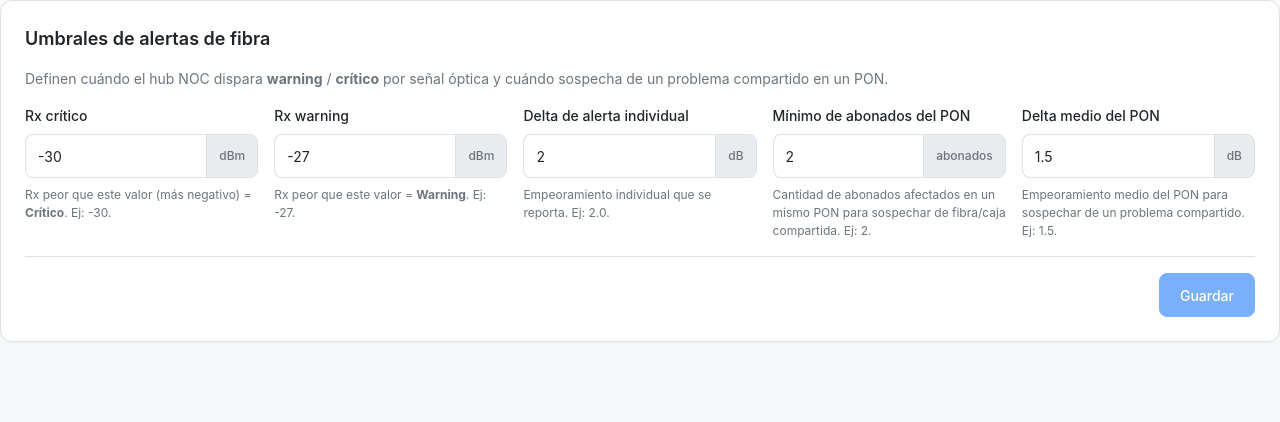
Test: NocAlertThresholdsEditor › rejects ponMinAbon that is not a non-negative integer
The width and height of the screenshot is (1280, 422).
Replace the text in the number field labelled "Mínimo de abonados del PON" with "2.5" at (848, 156), box [773, 134, 923, 178]
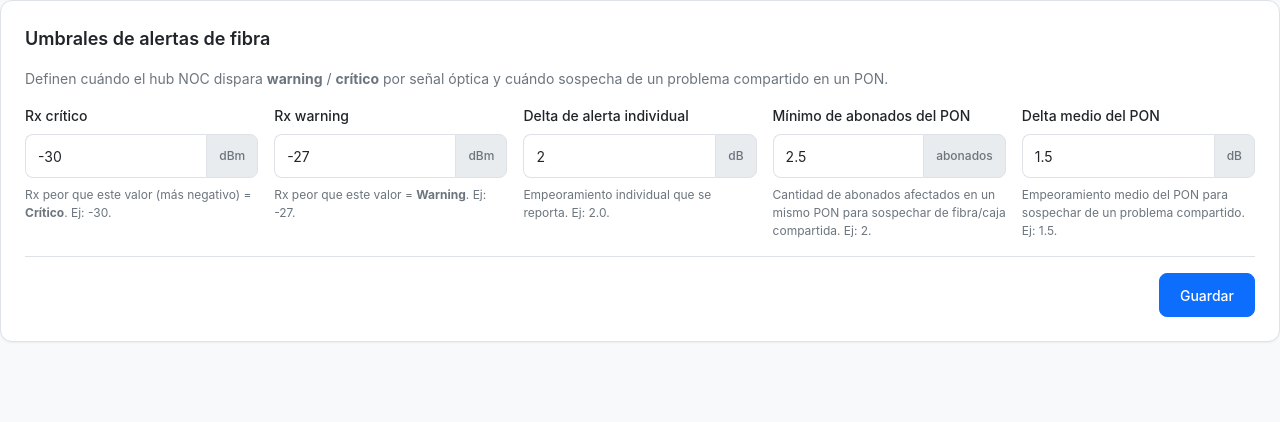
Click the button "Guardar" at (1207, 295), box [1159, 273, 1255, 317]
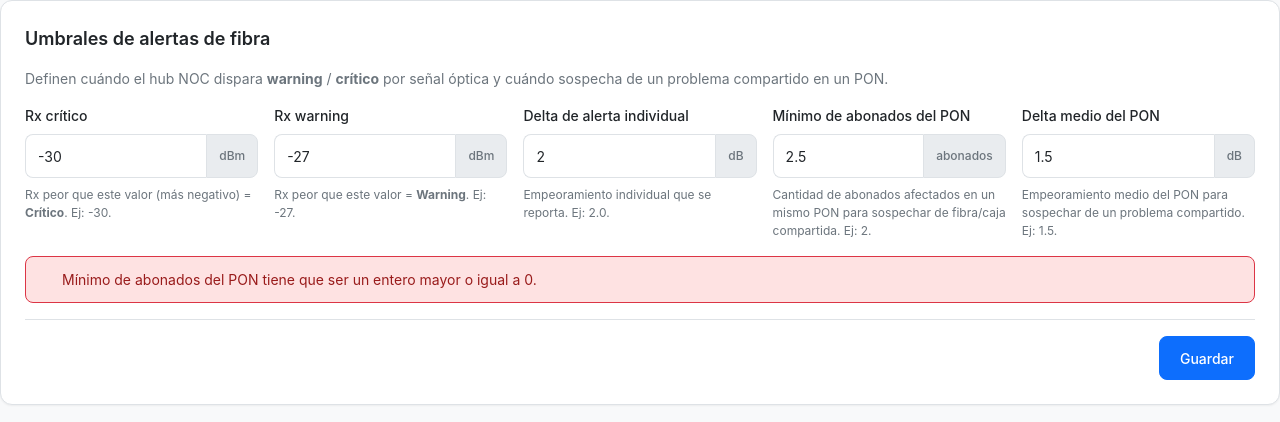
Expected: the list item "entero mayor o igual a 0" is shown, [62, 271, 537, 288]
